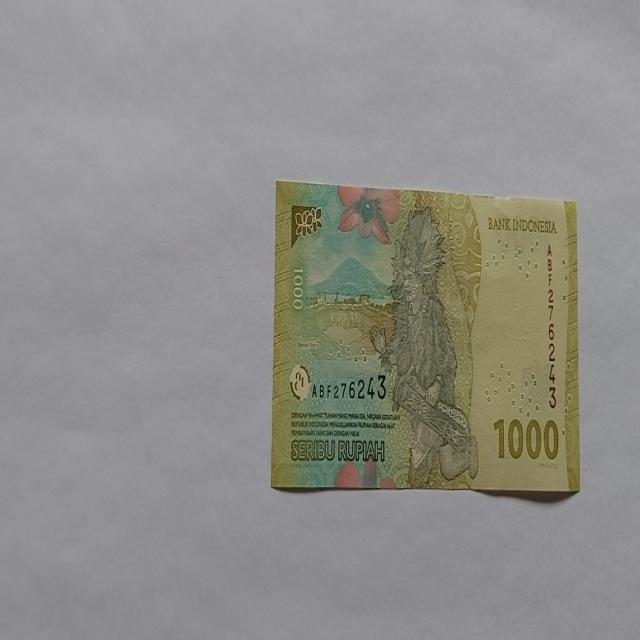seribu rupiah kertas: (270, 178, 580, 496)
